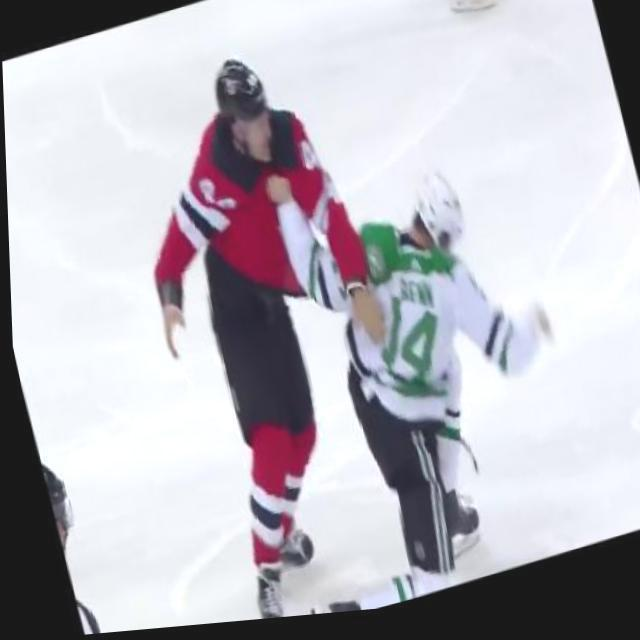fight: (95, 0, 596, 633)
